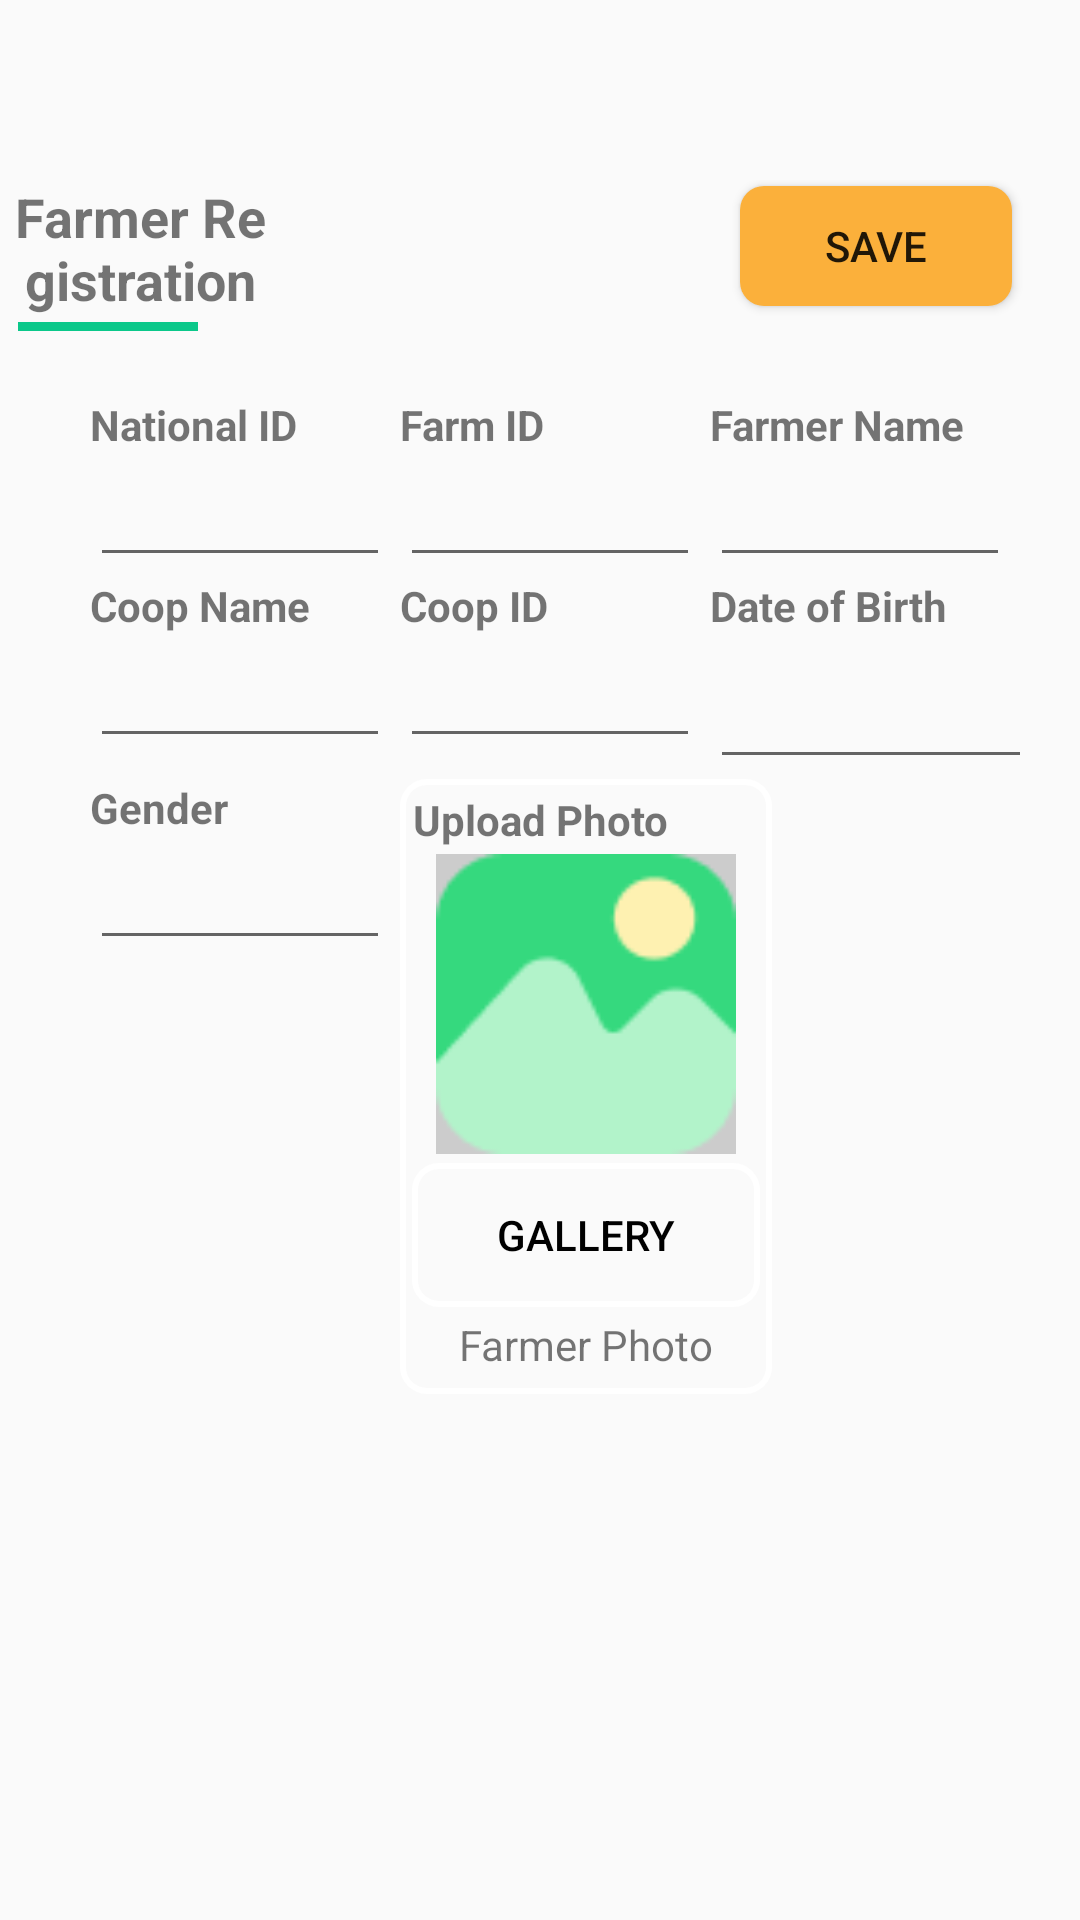

Screen size 1080w x 1920h. Icon name, then its box in pixels as BBox(x1, y1, x2, y2):
defaultpic: BBox(436, 854, 736, 1154)
